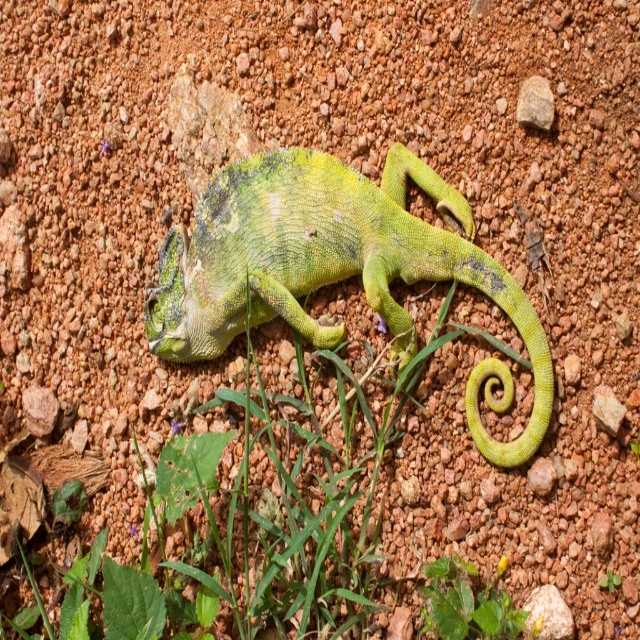Lizard: (143, 138, 552, 468)
